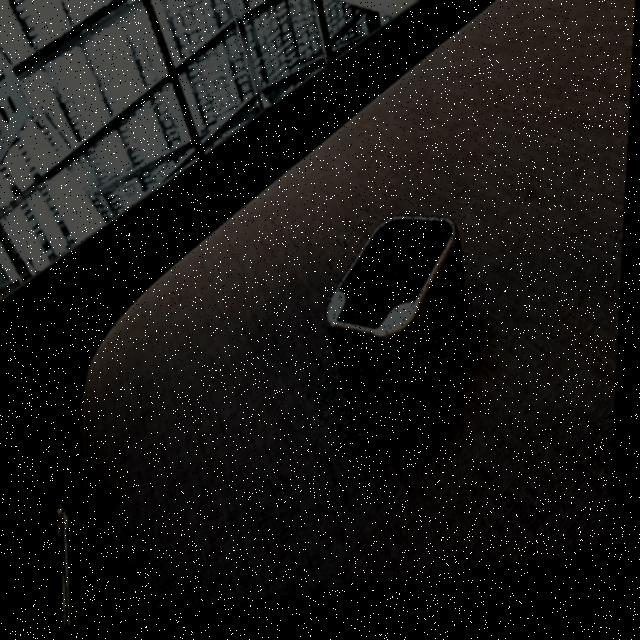adapter: (324, 217, 478, 453)
